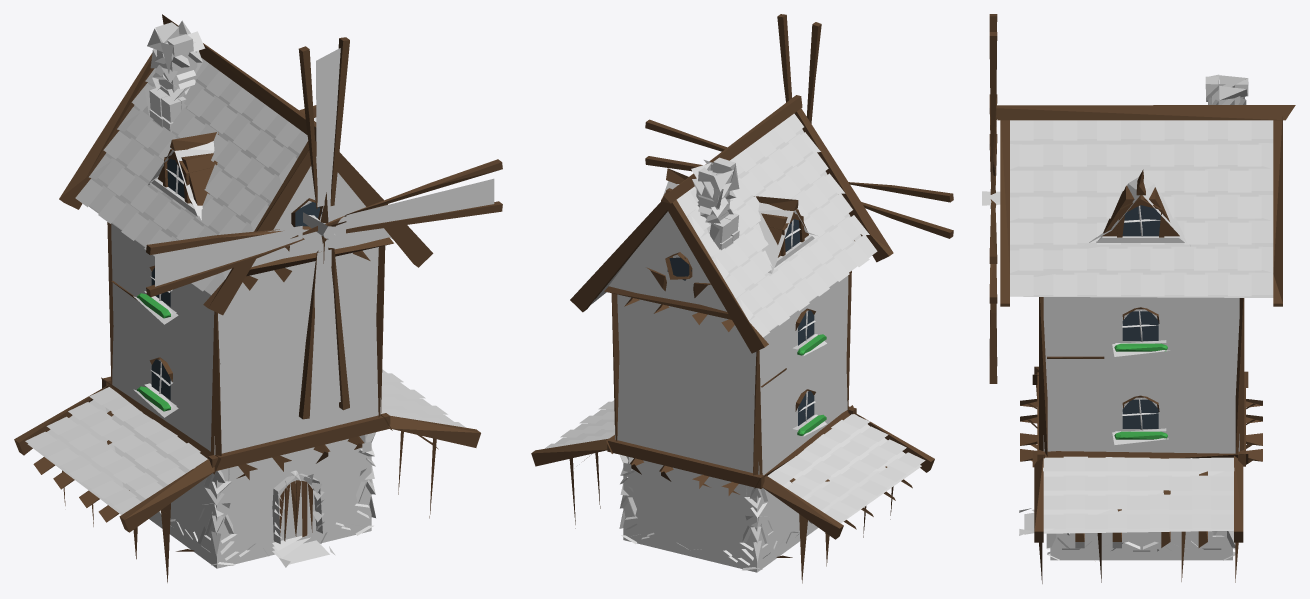
File: mv_mill.glb
3 views of the same model, side by side, from view 1: azimuth 30°, elevation 25°; view 2: azimuth 150°, elevation 25°; view 3: azimuth 270°, elevation 25° (orthographic). The views are drawn at different scales.
Visible parts, largest first — view 1: S_Mill; view 2: S_Mill; view 3: S_Mill.
Part boxes in pixels (x1,y1,x2,y2): S_Mill: [14, 14, 502, 582]; S_Mill: [531, 14, 953, 583]; S_Mill: [982, 14, 1295, 583].
Bounding box in the file's own units: 3.4 × 4.8 × 2.73.
